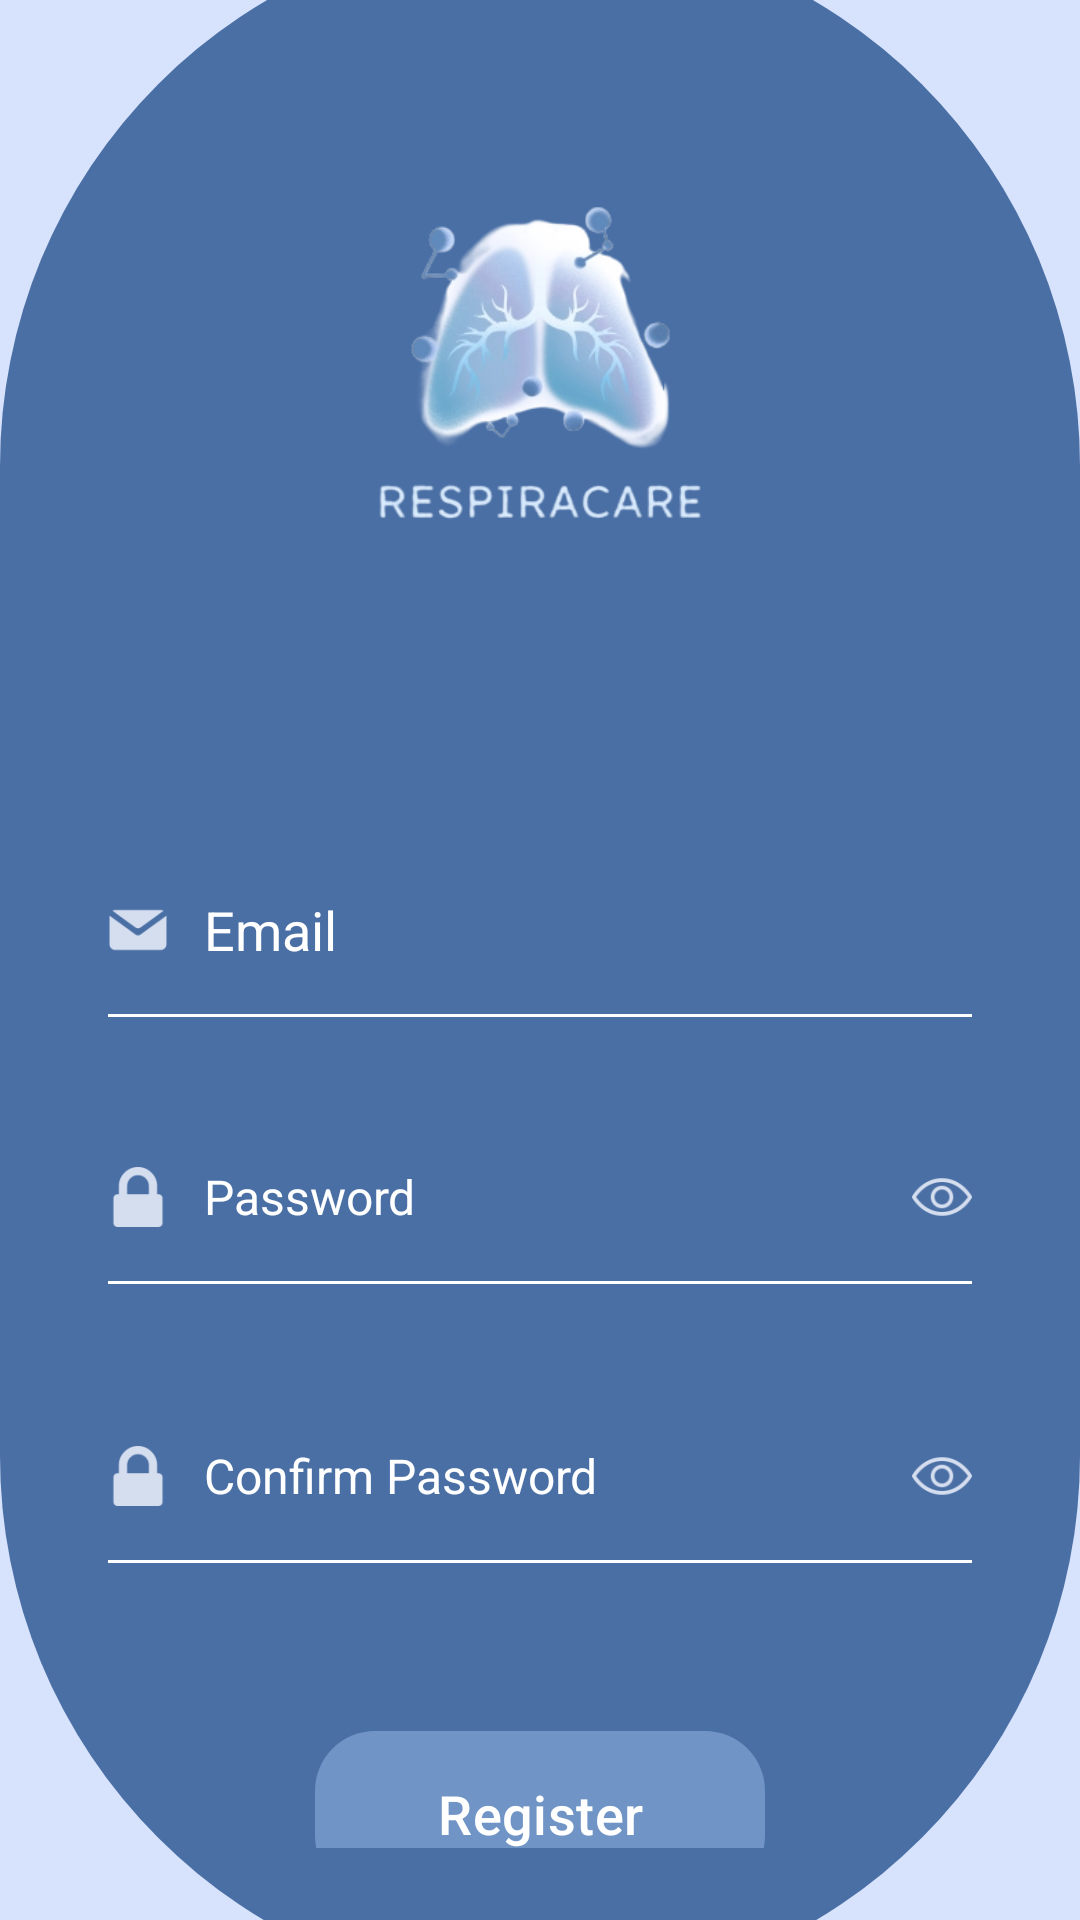

Icons on this 1080×1920 Android screen, each with its box as (x1, y1, x2, y2):
padlock: (113, 1167, 163, 1227), (113, 1446, 163, 1506)
show: (912, 1178, 972, 1216), (912, 1457, 972, 1495)
